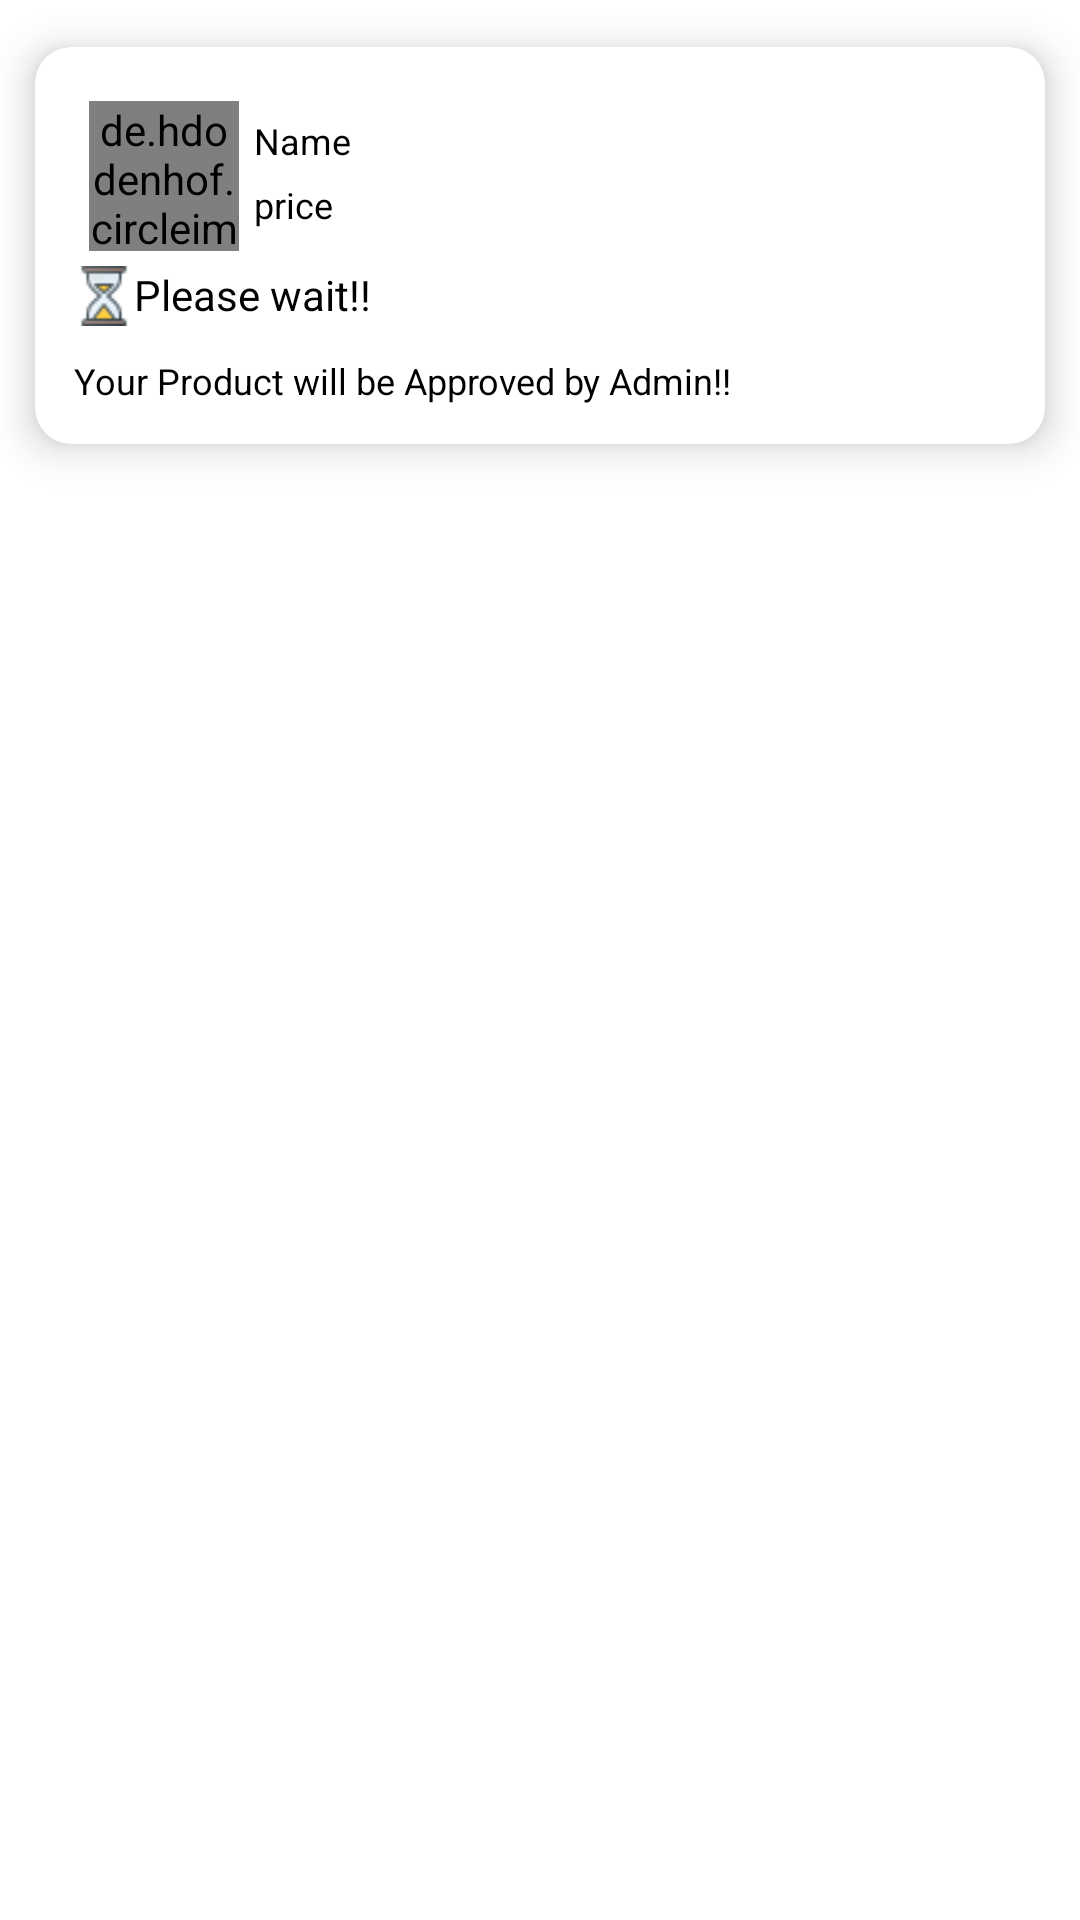

Screen size 1080×1920. Icon name, then its center in pixels as point (x, y):
hourglass: point (104, 296)
